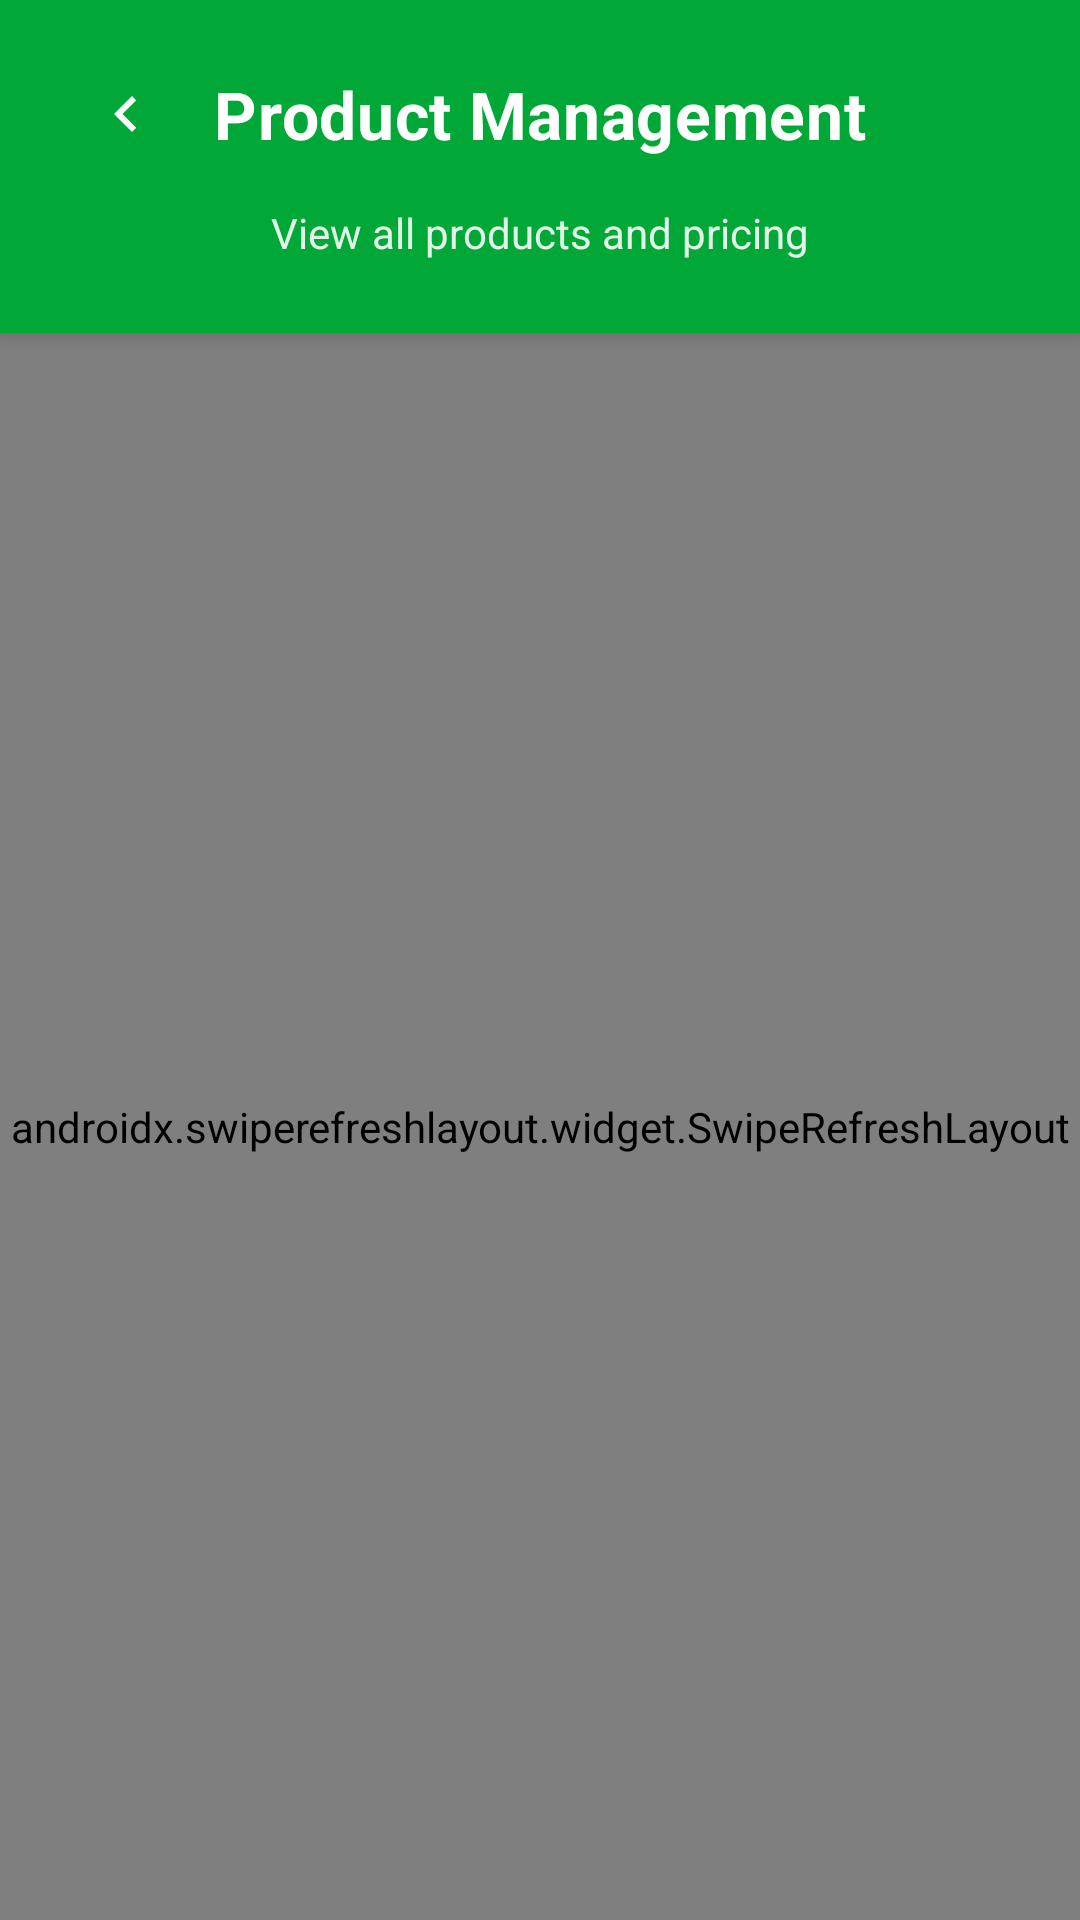

Locate icon controls on the screen. Image size 1080w x 1920h, boxes as (x1, y1, x2, y2).
Back: (114, 96, 136, 132)
